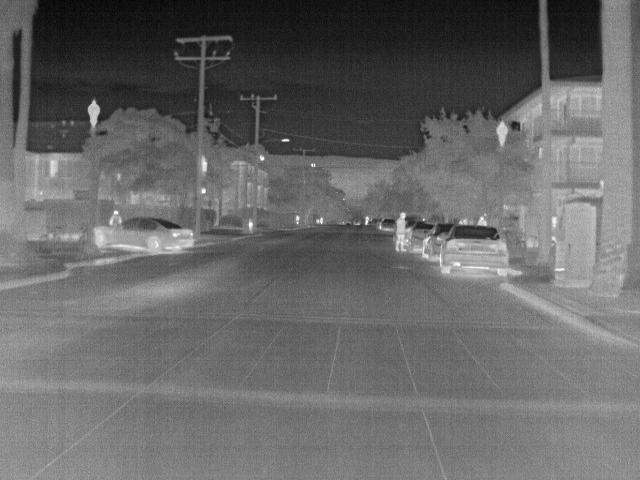car: (93, 214, 195, 258), (440, 224, 506, 277), (419, 218, 456, 260), (406, 224, 435, 247), (379, 220, 397, 232)
person: (393, 210, 411, 252), (104, 205, 123, 226), (475, 214, 488, 226)
